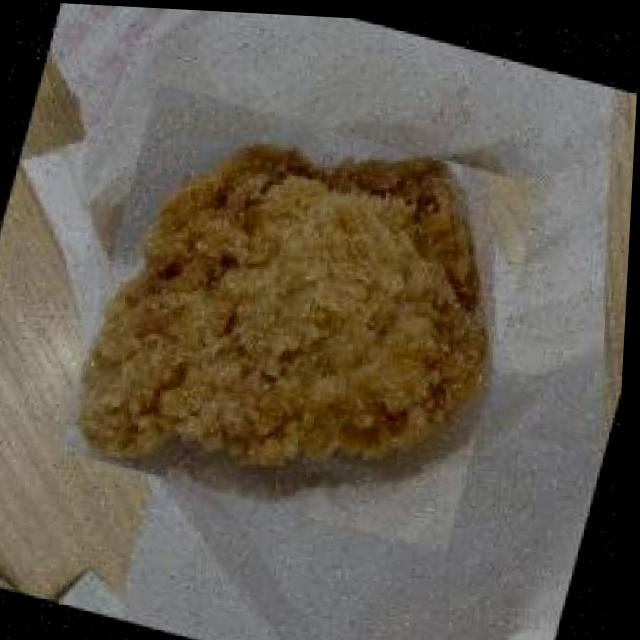fried_chicken: (60, 78, 547, 552)
